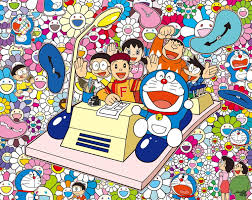doraemon: (130, 69, 194, 147), (223, 49, 252, 84), (10, 13, 35, 49), (14, 168, 42, 200), (169, 172, 197, 200)
